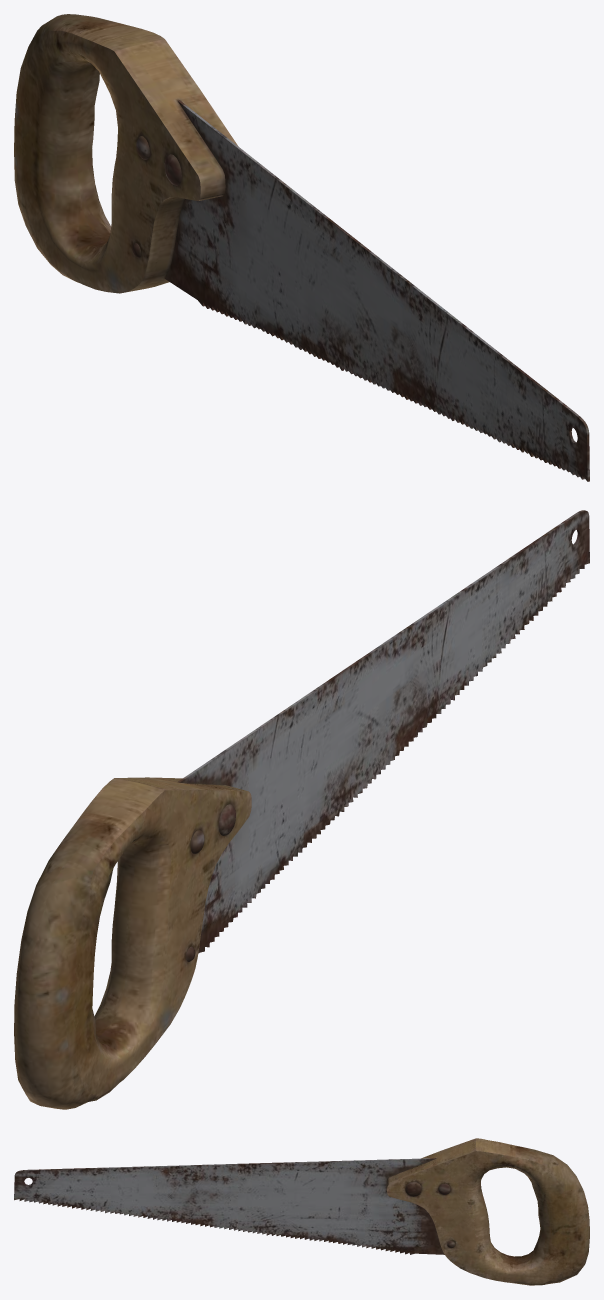
3 renders of one model, top to bottom at view 1: azimuth 30°, elevation 25°; view 2: azimuth 150°, elevation 25°; view 3: azimuth 270°, elevation 25°, orthographic. The views are drawn at different scales.
Visible parts, largest first — view 1: handsaw_wood; view 2: handsaw_wood; view 3: handsaw_wood.
Part boxes in pixels (box(x1,y1,x2,y2)): handsaw_wood: box(14, 14, 589, 481); handsaw_wood: box(14, 510, 589, 1109); handsaw_wood: box(14, 1138, 589, 1285).
Size of the model in its own units: 0.0408 by 0.1665 by 0.633.
1 material, 1 textured.
